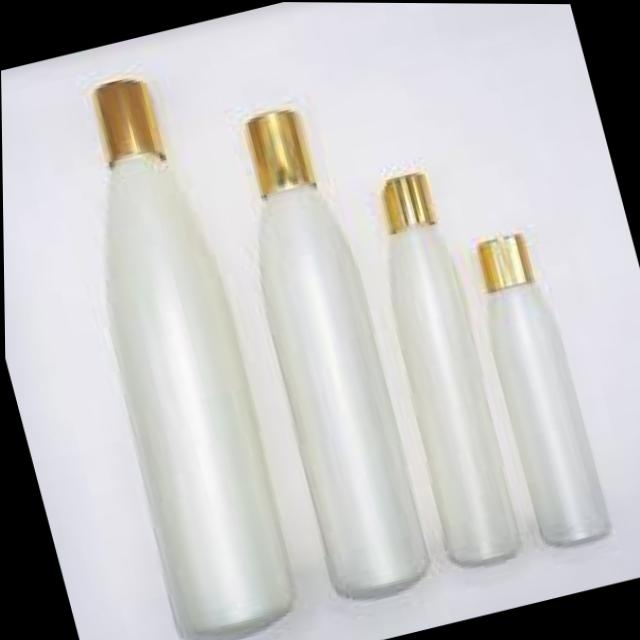Botella: (17, 45, 315, 640), (196, 79, 456, 613)
